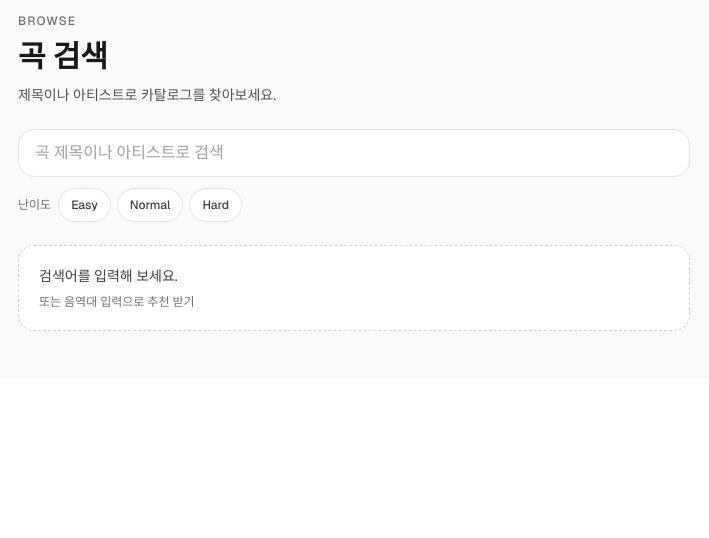
Test case: SongSearchPage › 장르 + 난이도 필터는 AND 조건으로 결합된다 (#118)
The image size is (709, 538).
Type "song" into the search field with placeholder "곡 제목이나 아티스트로 검색" at (354, 153), box left=18, top=129, right=690, bottom=177
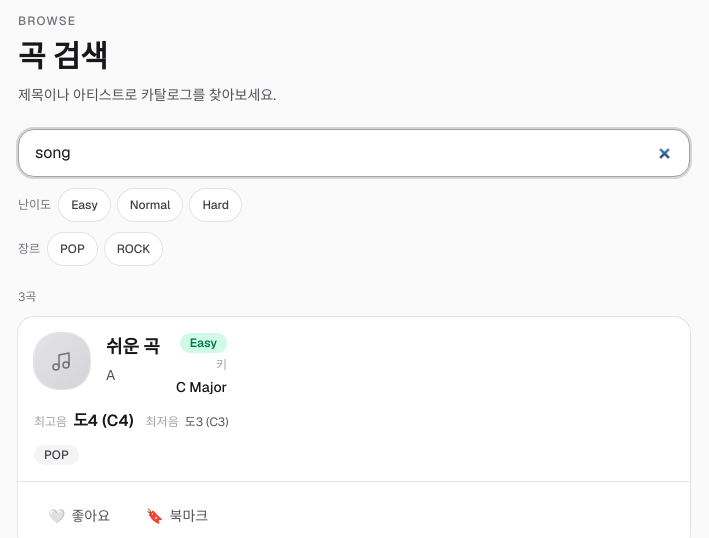
# POP AND Hard → 'POP/HARD'인 곡 1건만.
Click the button "POP" at (72, 249), box left=48, top=233, right=97, bottom=265
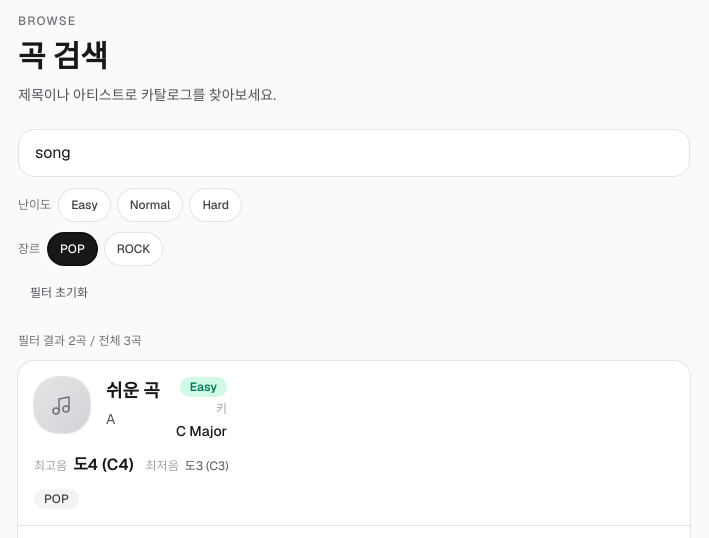
Click the button "Hard" at (216, 205), box left=190, top=189, right=241, bottom=221
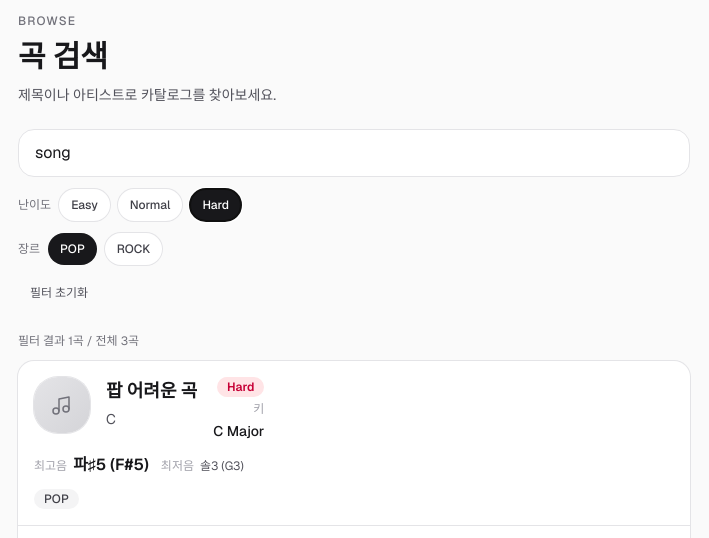
expect the heading "팝 어려운 곡" is shown: met, box left=106, top=377, right=197, bottom=405
expect the button "쉬운 곡" is gone: met
expect the text "필터 결과 1곡 / 전체 3곡" is shown: met, box left=18, top=333, right=139, bottom=349
